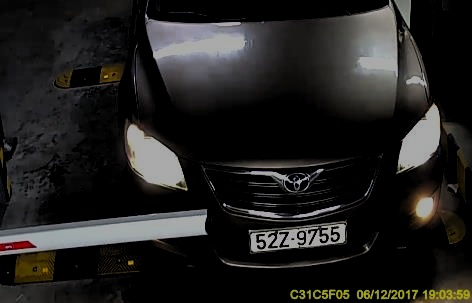plate: (245, 219, 347, 253)
